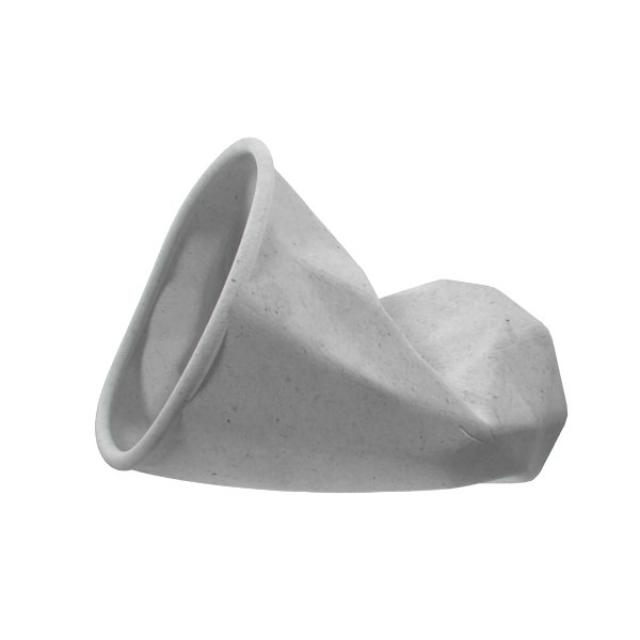trash: (89, 134, 569, 488)
